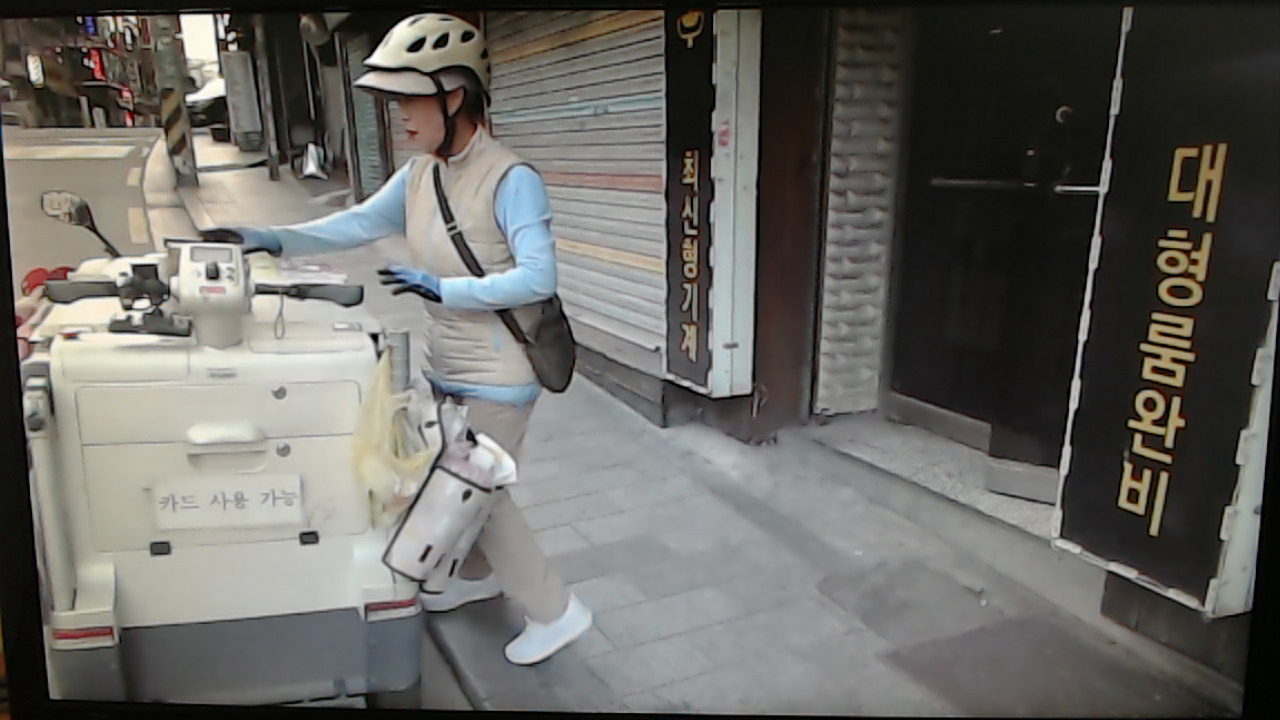Yakurut: (190, 21, 602, 698)
